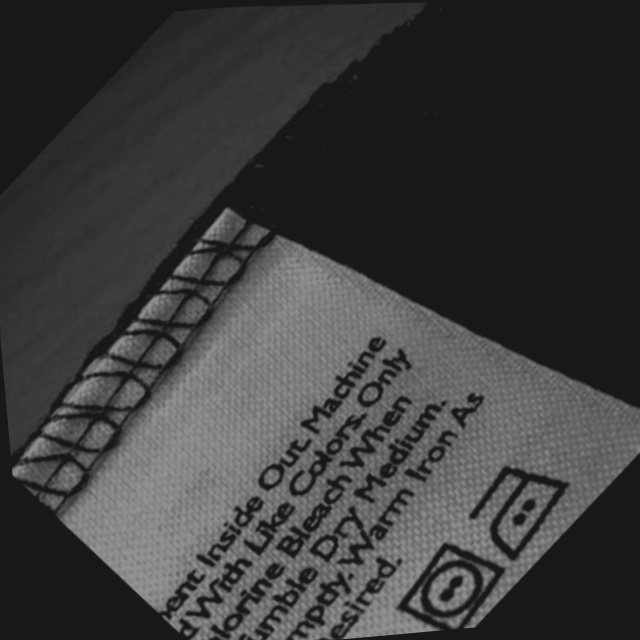iron_medium: (464, 457, 583, 564)
tumble_dry_medium: (393, 536, 514, 634)
